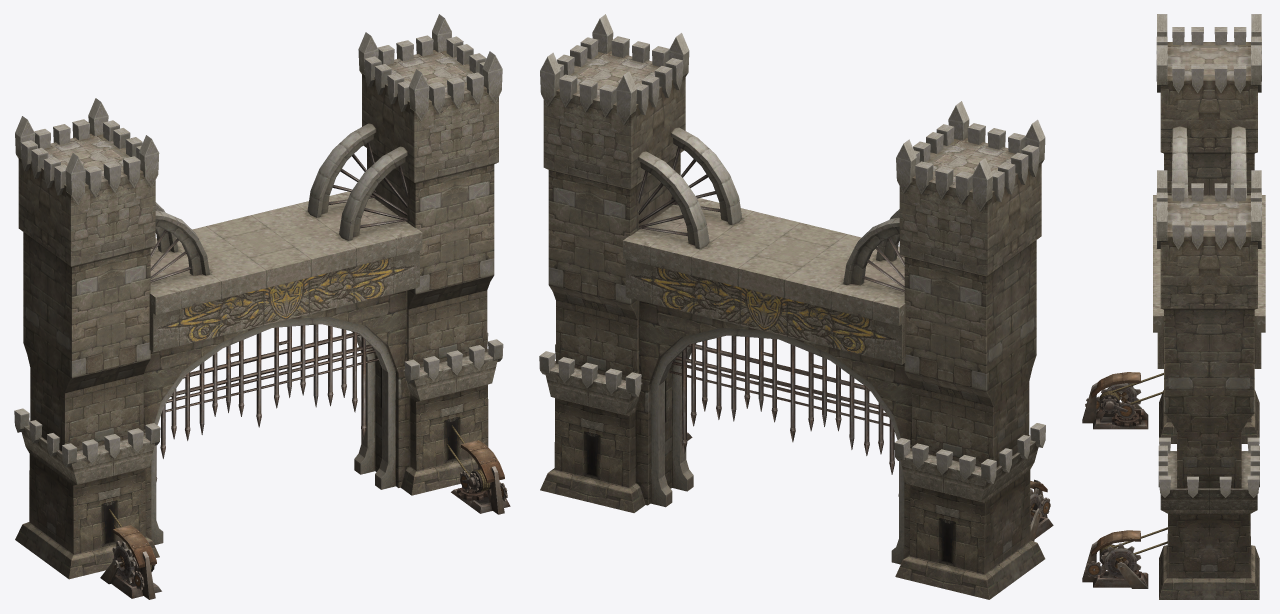
The model's file is Gate001.fbx.
3 views of the same model, side by side, from view 1: azimuth 30°, elevation 25°; view 2: azimuth 150°, elevation 25°; view 3: azimuth 270°, elevation 25° (orthographic). The views are drawn at different scales.
Parts seen in each view (by area): view 1: UB296; view 2: UB296; view 3: UB296.
Part boxes in pixels (x1=…): UB296: x1=14, y1=14, x2=510, y2=599; UB296: x1=539, y1=14, x2=1053, y2=599; UB296: x1=1082, y1=14, x2=1265, y2=599.
Bounding box in the file's own units: 58.52 × 54.15 × 22.92.
